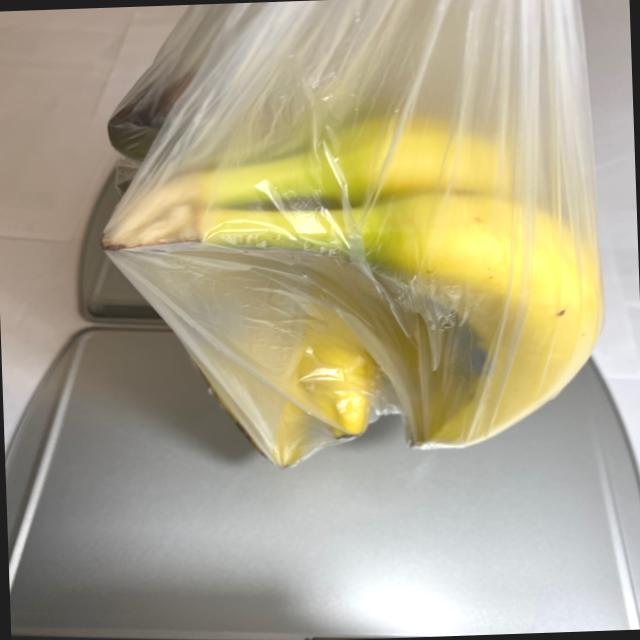banana: (91, 63, 611, 480)
